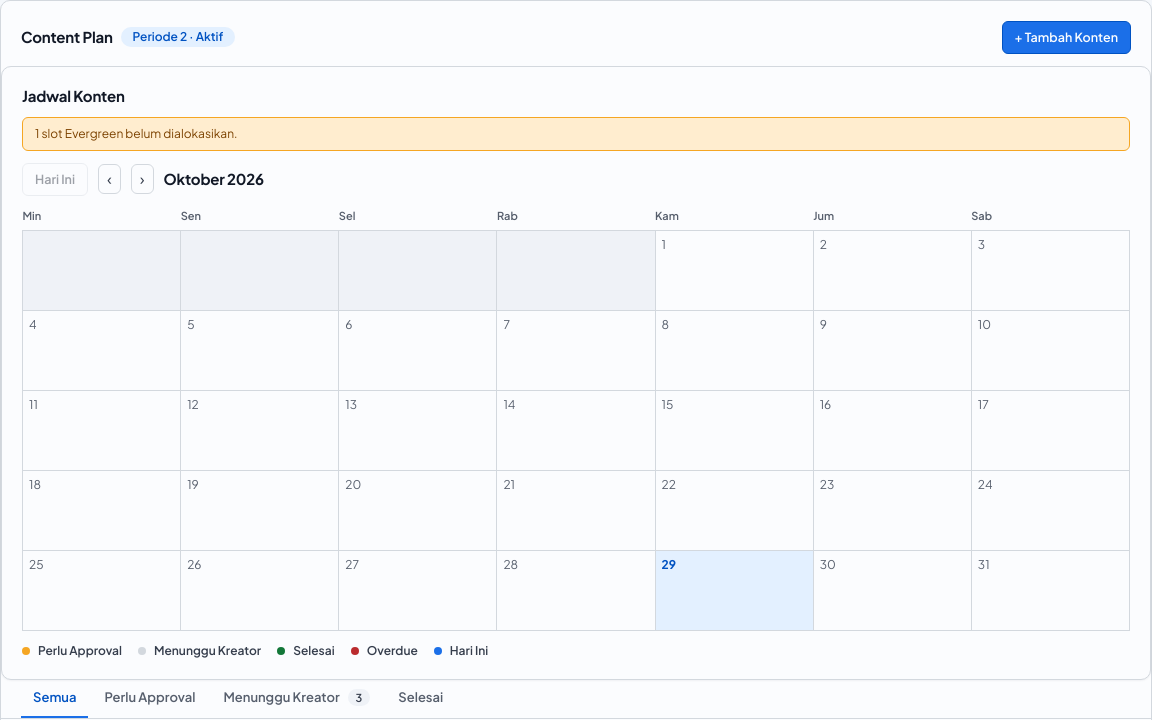
Test: CreatorContentBoard › Tambah Konten › closes on Batal without touching the list
What coordinates should you click on to do the following:
click the button "+ Tambah Konten"
I would click on:
 (1066, 37)
Its box is [1002,21,1131,54].
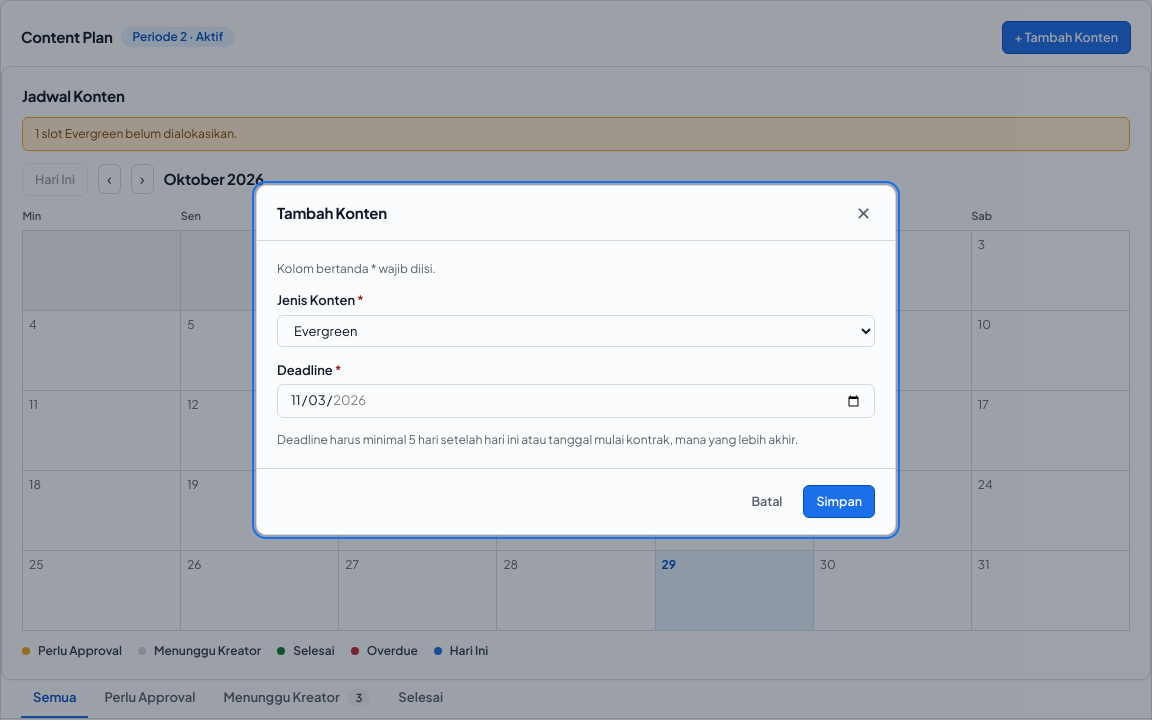
What coordinates should you click on to do the following:
click the button "Batal"
I would click on:
 (767, 501)
Its box is [738,485,795,518].
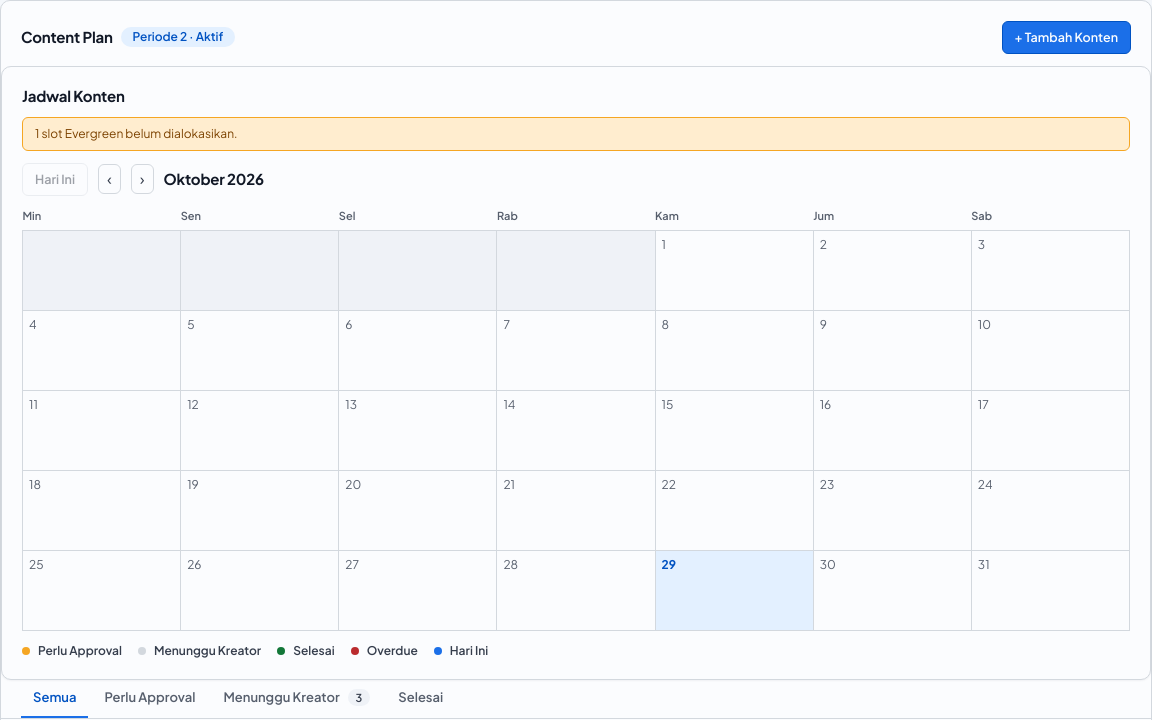
Now the dialog is gone
